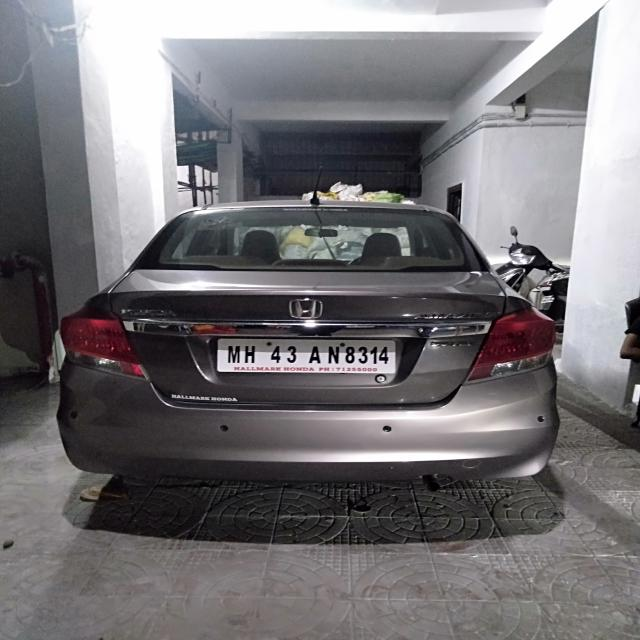Number-Plate: (222, 337, 396, 375)
